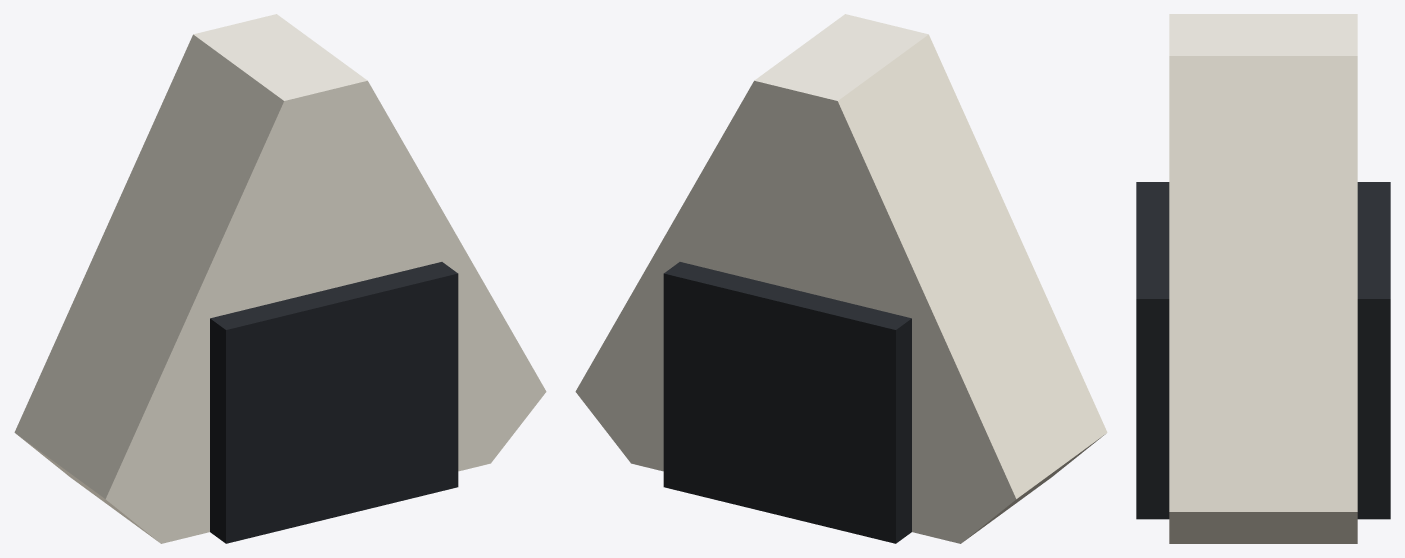
Rendered from Item_onigiri.fbx.
3 views of the same model, side by side, from view 1: azimuth 30°, elevation 25°; view 2: azimuth 150°, elevation 25°; view 3: azimuth 270°, elevation 25° (orthographic). The views are drawn at different scales.
Visible parts, largest first — view 1: Rice, Nori; view 2: Rice, Nori; view 3: Rice, Nori.
Boxes of the visible parts, x1,y1,x2,y2 form: Rice: (14,14,546,543); Nori: (210,262,458,543); Rice: (575,14,1107,543); Nori: (663,262,911,543); Rice: (1169,14,1357,543); Nori: (1136,182,1390,519).
Bounding box in the file's own units: 0.1283 × 0.1148 × 0.0621.
